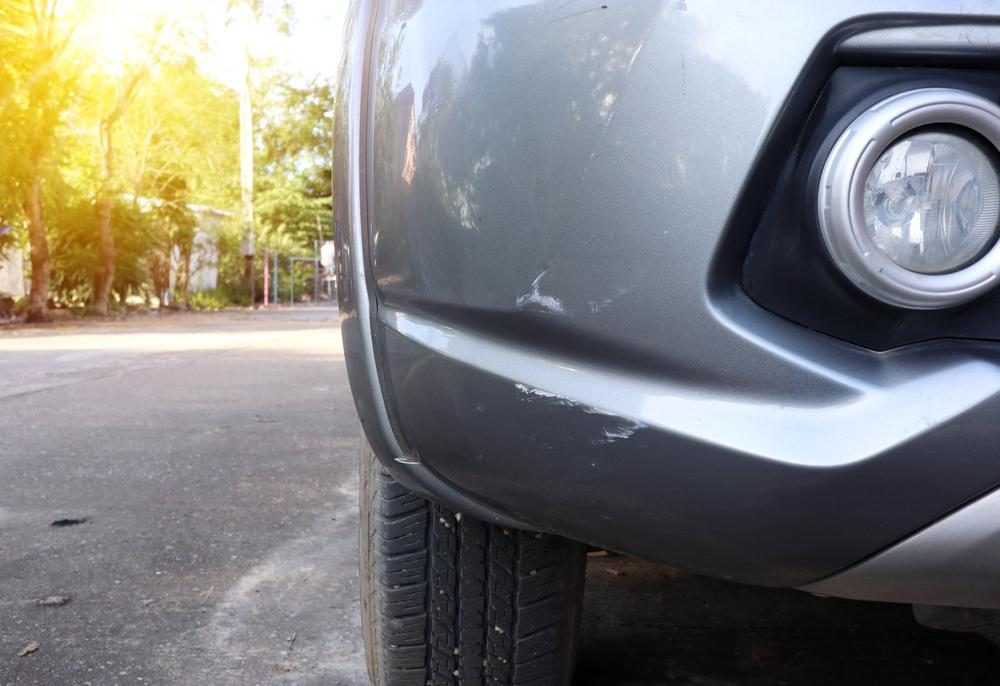scratch: (512, 380, 646, 451), (513, 266, 650, 312)
